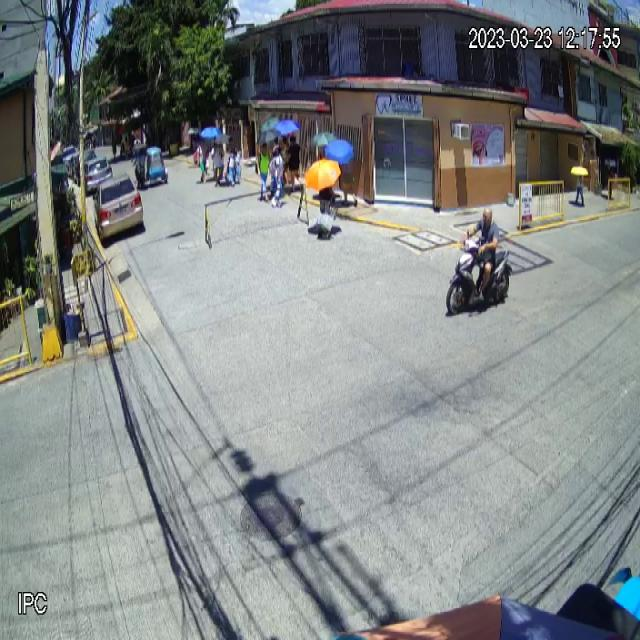Car: (92, 174, 144, 242)
Motorcycle: (448, 233, 511, 317)
